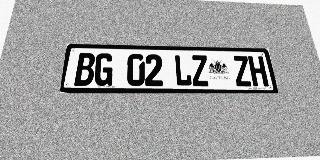0: (127, 54, 145, 86)
2: (145, 54, 163, 86)
B: (74, 53, 96, 86)
G: (93, 53, 114, 86)
H: (248, 56, 269, 86)
L: (174, 55, 192, 86)
Z: (232, 56, 253, 86), (191, 55, 210, 86)
